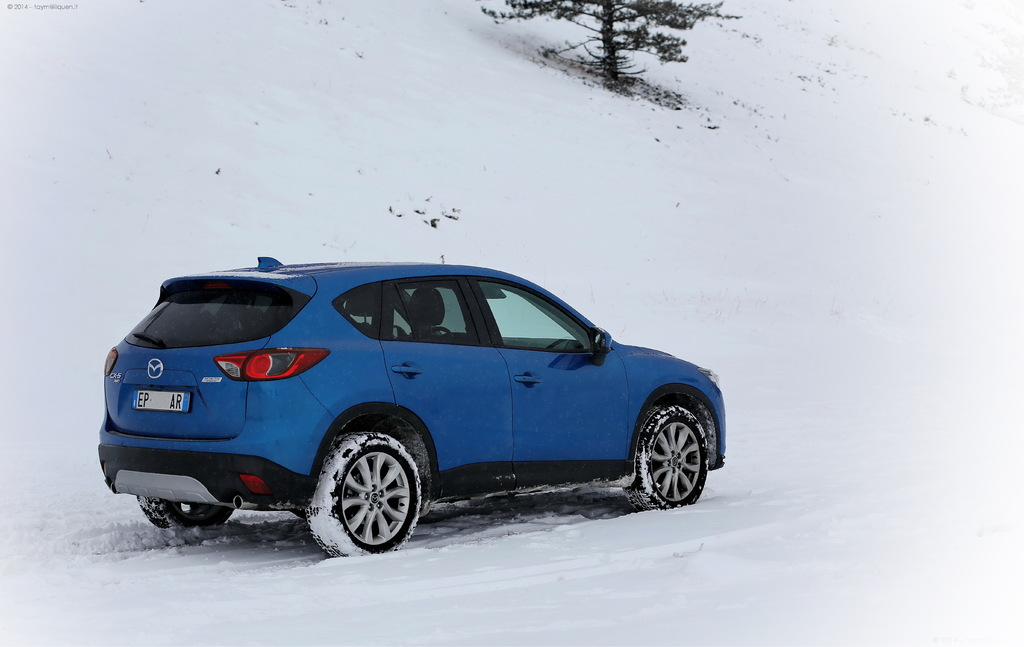Tree: (480, 0, 743, 82)
